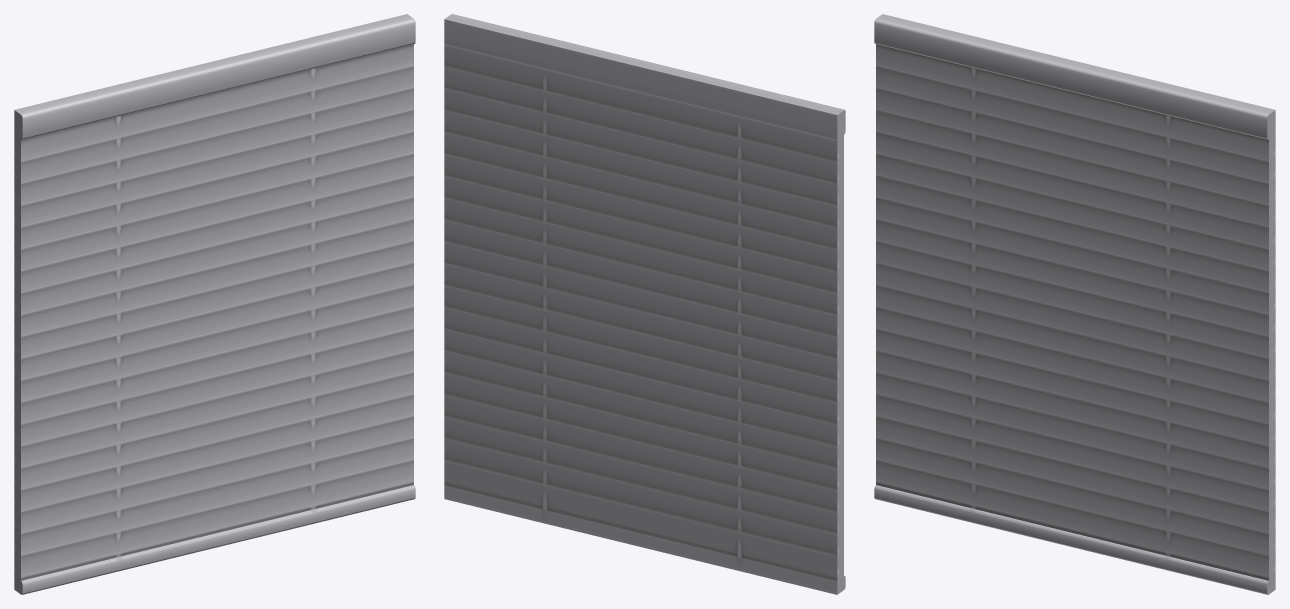
Rendered from PropBlinds01TypeE_1.FBX.
The picture shows the model from 3 angles, left to right: view 1: azimuth 30°, elevation 25°; view 2: azimuth 150°, elevation 25°; view 3: azimuth 330°, elevation 25°; orthographic projection.
Parts seen in each view (by area): view 1: PropBlinds01TypeE_1; view 2: PropBlinds01TypeE_1; view 3: PropBlinds01TypeE_1.
Part boxes in pixels (box(x1,y1,x2,y2)): PropBlinds01TypeE_1: box(14, 14, 415, 594); PropBlinds01TypeE_1: box(444, 14, 845, 594); PropBlinds01TypeE_1: box(874, 14, 1275, 594).
Size of what is drawn, in the model's own units: 1.5 by 1.75 by 0.055.
